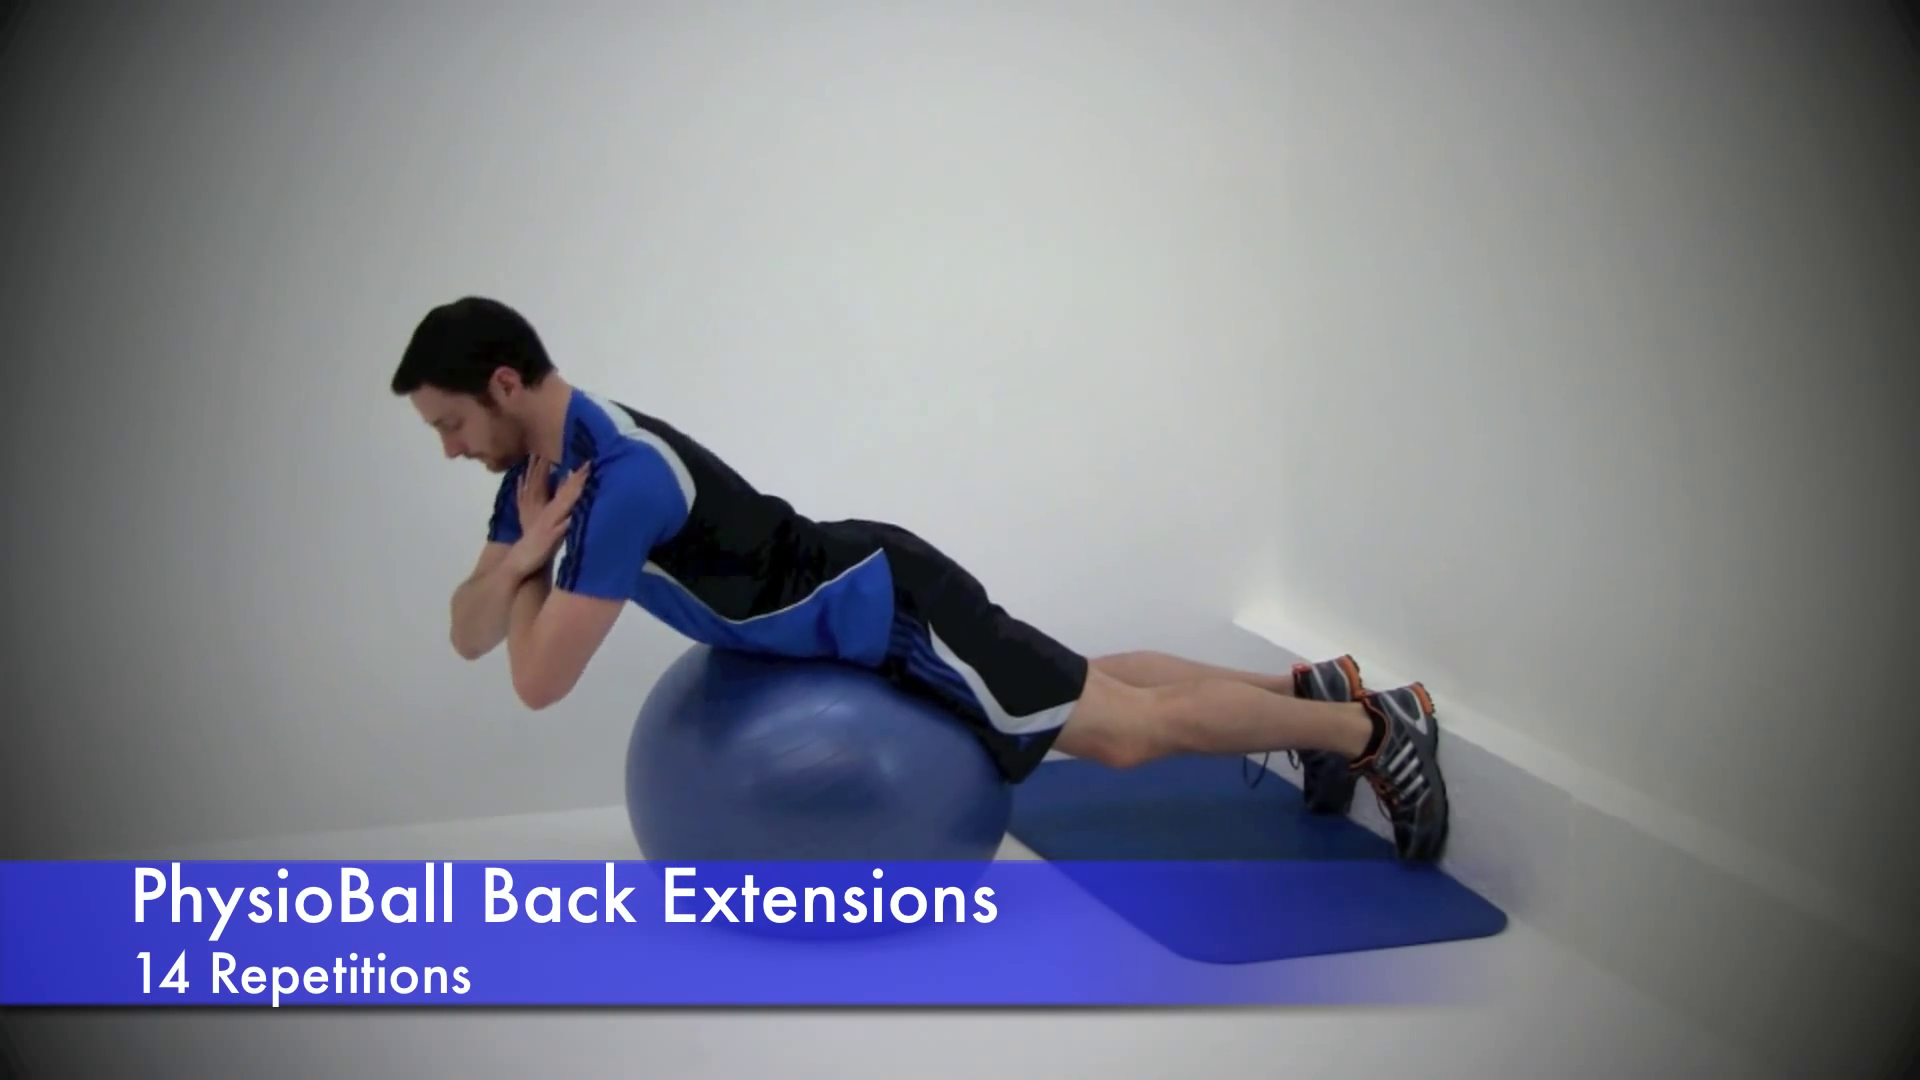yogaball: (611, 622, 1030, 949)
